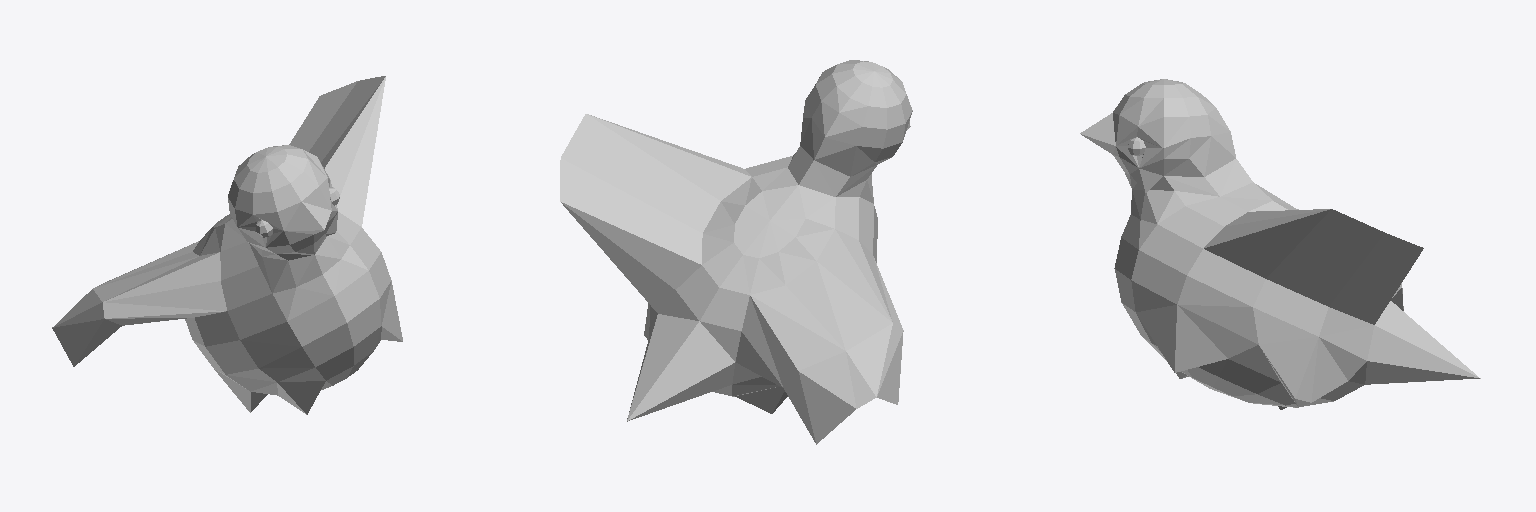
The model's file is MeltingWarblerMesh.obj.
The picture shows the model from 3 angles: view 1: azimuth 30°, elevation 25°; view 2: azimuth 150°, elevation 25°; view 3: azimuth 270°, elevation 25°; orthographic projection.
Visible parts, largest first — view 1: MeltingWarblerMesh; view 2: MeltingWarblerMesh; view 3: MeltingWarblerMesh.
Boxes of the visible parts, x1,y1,x2,y2 form: MeltingWarblerMesh: [52, 76, 402, 414]; MeltingWarblerMesh: [560, 60, 912, 444]; MeltingWarblerMesh: [1080, 79, 1480, 409].
Bounding box in the file's own units: 1.8 × 1.72 × 2.